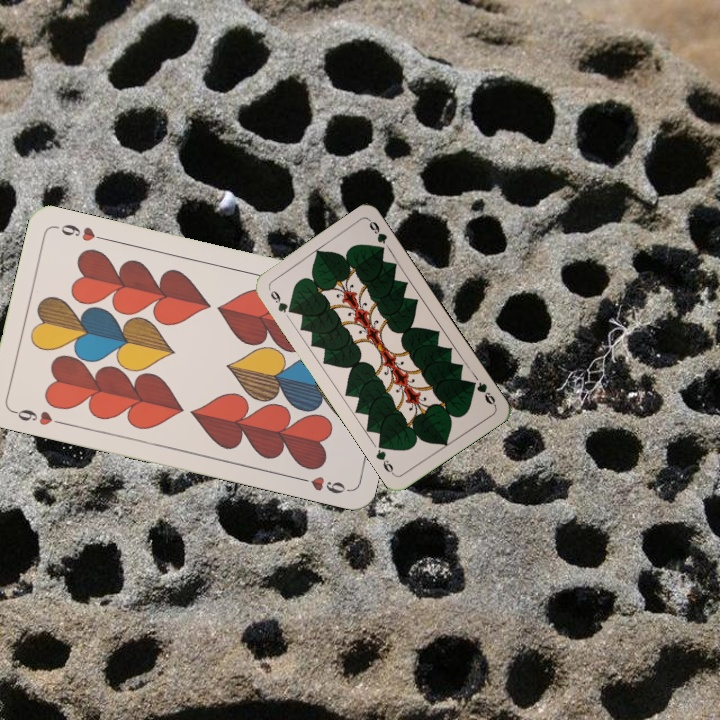G9: (466, 377, 498, 409), (265, 285, 296, 316)
H9: (9, 405, 67, 428)
